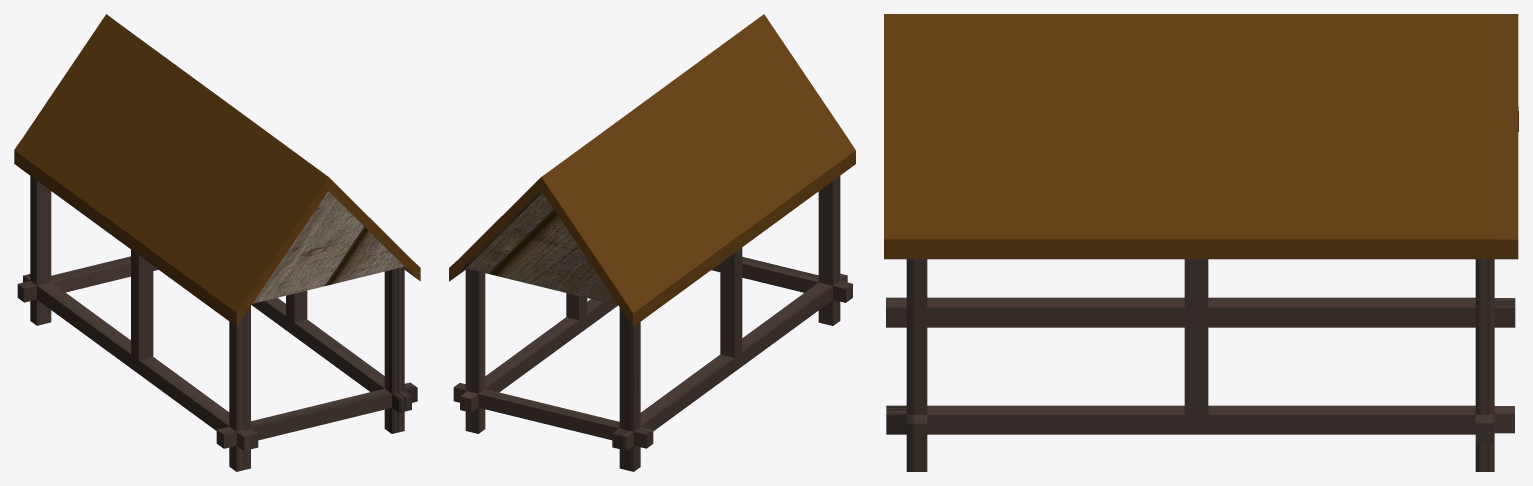
The model's file is Makam Pangeran Usman.fbx.
3 renders of one model, left to right at view 1: azimuth 30°, elevation 25°; view 2: azimuth 150°, elevation 25°; view 3: azimuth 270°, elevation 25°, orthographic. The views are drawn at different scales.
Visible parts, largest first — view 1: Cube.001; view 2: Cube.001; view 3: Cube.001.
Boxes of the visible parts, x1,y1,x2,y2 form: Cube.001: (14, 14, 420, 471); Cube.001: (449, 14, 855, 471); Cube.001: (884, 14, 1518, 471).
Bounding box in the file's own units: 2.27 × 3.14 × 4.52.
